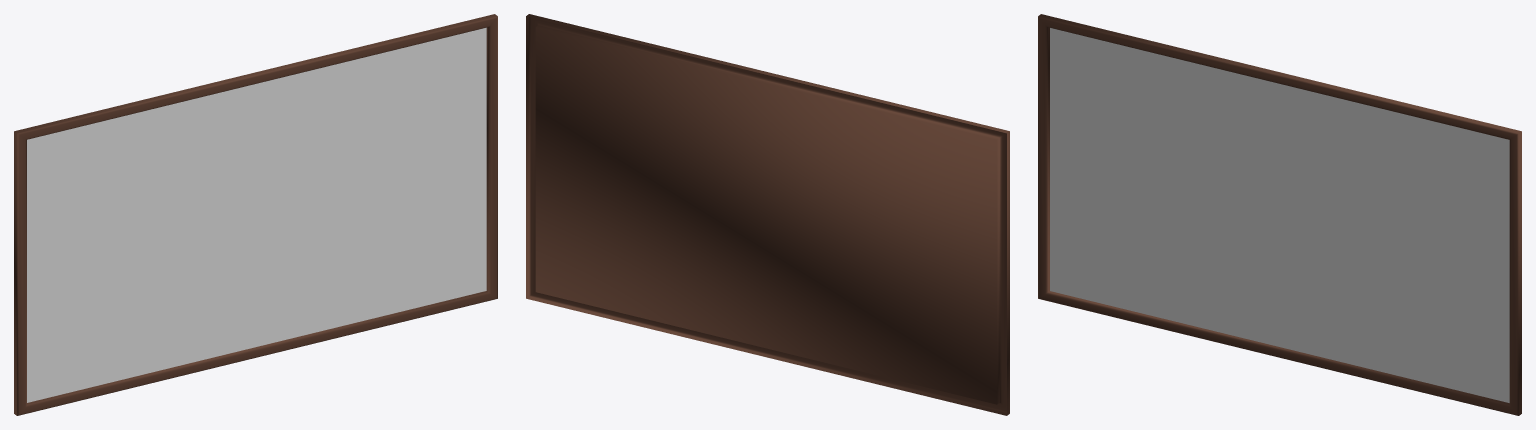
File: chalkboard-menu.fbx
The picture shows the model from 3 angles, left to right: view 1: azimuth 30°, elevation 25°; view 2: azimuth 150°, elevation 25°; view 3: azimuth 330°, elevation 25°; orthographic projection.
Parts seen in each view (by area): view 1: wall-menu, border; view 2: border; view 3: wall-menu, border.
Part boxes in pixels (<box>): wall-menu: <box>27,27,486,402</box>; border: <box>14,14,497,415</box>; border: <box>526,14,1009,415</box>; wall-menu: <box>1050,28,1509,402</box>; border: <box>1038,14,1521,415</box>.
Bounding box in the file's own units: 793 × 445 × 10.23.
